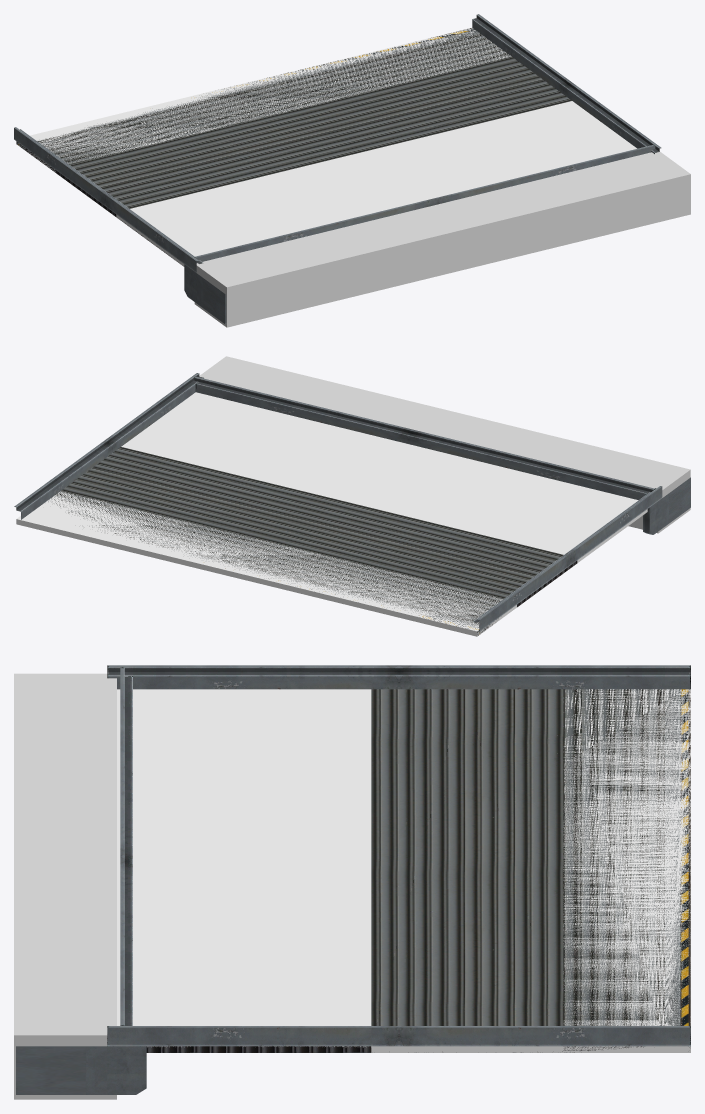
The model's file is blade_garage_door.glb.
3 views of the same model, one above another, from view 1: azimuth 30°, elevation 25°; view 2: azimuth 150°, elevation 25°; view 3: azimuth 270°, elevation 25° (orthographic). The views are drawn at different scales.
Parts seen in each view (by area): view 1: s_door_01, c_door_frame, g_door_02, g_door_01, g_door_frame; view 2: s_door_01, g_door_02, g_door_frame, c_door_frame, g_door_01; view 3: s_door_01, g_door_02, c_door_frame, g_door_01, g_door_frame, g_door_03.
Part boxes in pixels (x1,y1,x2,y2): s_door_01: (16, 27, 636, 266); c_door_frame: (194, 151, 690, 327); g_door_02: (56, 57, 571, 216); g_door_01: (16, 28, 511, 172); g_door_frame: (14, 14, 661, 324); s_door_01: (16, 392, 647, 636); g_door_02: (61, 447, 577, 607); g_door_frame: (14, 373, 690, 631); c_door_frame: (199, 356, 690, 533); g_door_01: (48, 491, 503, 635); s_door_01: (117, 689, 690, 1052); g_door_02: (371, 689, 563, 1052); c_door_frame: (14, 673, 116, 1099); g_door_01: (563, 689, 690, 1052); g_door_frame: (16, 665, 690, 1094); g_door_03: (188, 1046, 371, 1052).
Bounding box in the file's own units: 6.04 × 0.5585 × 4.77.
Materials: 2 (1 with a texture image).
